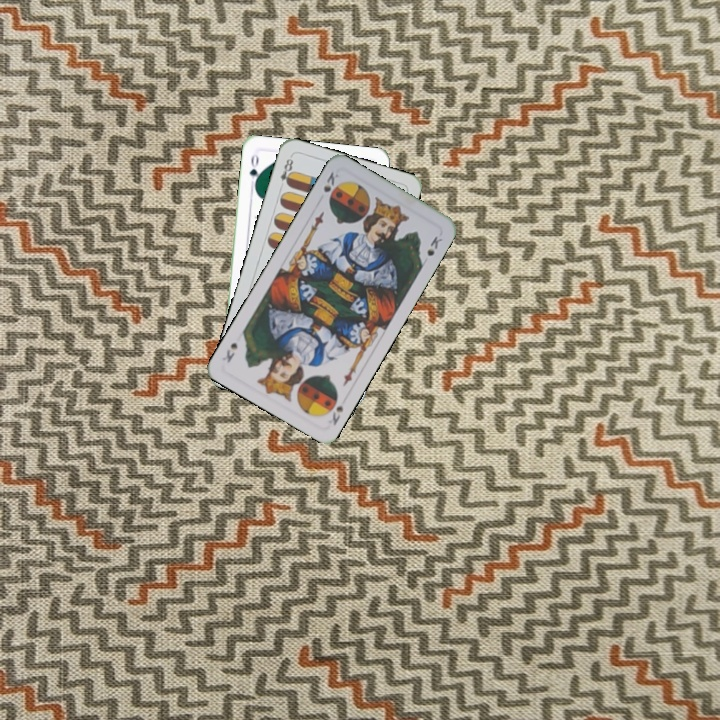E8: (275, 152, 296, 191)
GO: (245, 150, 262, 191)
SK: (322, 391, 346, 428), (319, 167, 342, 195)
